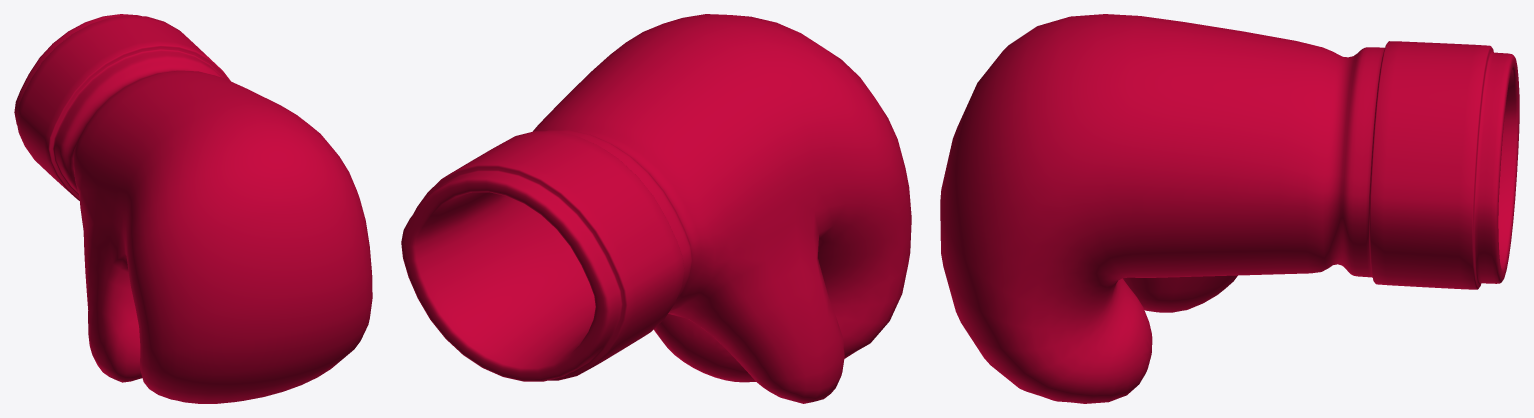
The model's file is Right_Boxing_hand.fbx.
3 renders of one model, left to right at view 1: azimuth 30°, elevation 25°; view 2: azimuth 150°, elevation 25°; view 3: azimuth 270°, elevation 25°, orthographic. The views are drawn at different scales.
Parts seen in each view (by area): view 1: Boxing_Glove; view 2: Boxing_Glove; view 3: Boxing_Glove.
Part boxes in pixels (x1=…): Boxing_Glove: x1=14, y1=14, x2=372, y2=403; Boxing_Glove: x1=401, y1=14, x2=911, y2=403; Boxing_Glove: x1=940, y1=14, x2=1519, y2=403.
Size of the model in its own units: 14.14 by 15.99 by 23.3.
